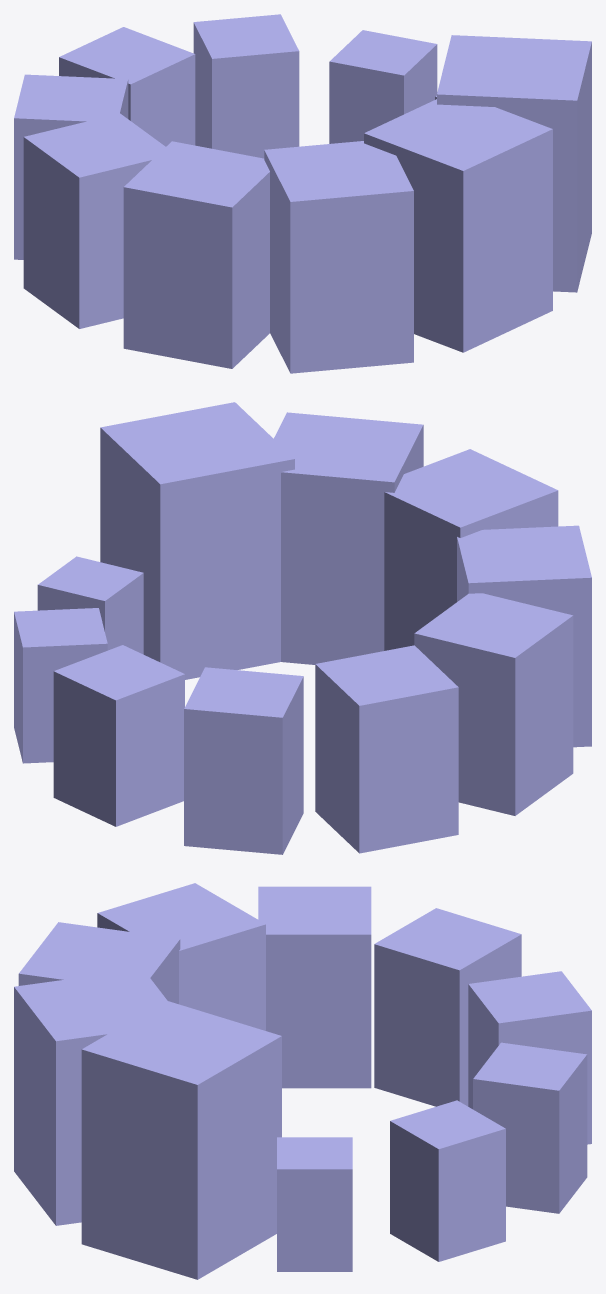
The model's file is Elements_Instance.glb.
3 views of the same model, one above another, from view 1: azimuth 30°, elevation 25°; view 2: azimuth 150°, elevation 25°; view 3: azimuth 270°, elevation 25° (orthographic). The views are drawn at different scales.
Visible parts, largest first — view 1: 856266c4-3f25-4d9c-b081-0acb07682412_mesh (×9); view 2: 856266c4-3f25-4d9c-b081-0acb07682412_mesh (×10); view 3: 856266c4-3f25-4d9c-b081-0acb07682412_mesh (×10).
Boxes of the visible parts, <box> form: 856266c4-3f25-4d9c-b081-0acb07682412_mesh (×9): <box>14,14,591,373</box>; 856266c4-3f25-4d9c-b081-0acb07682412_mesh (×10): <box>14,402,591,854</box>; 856266c4-3f25-4d9c-b081-0acb07682412_mesh (×10): <box>14,883,591,1279</box>.
Size of the model in its own units: 7.5 by 2.85 by 7.66.
